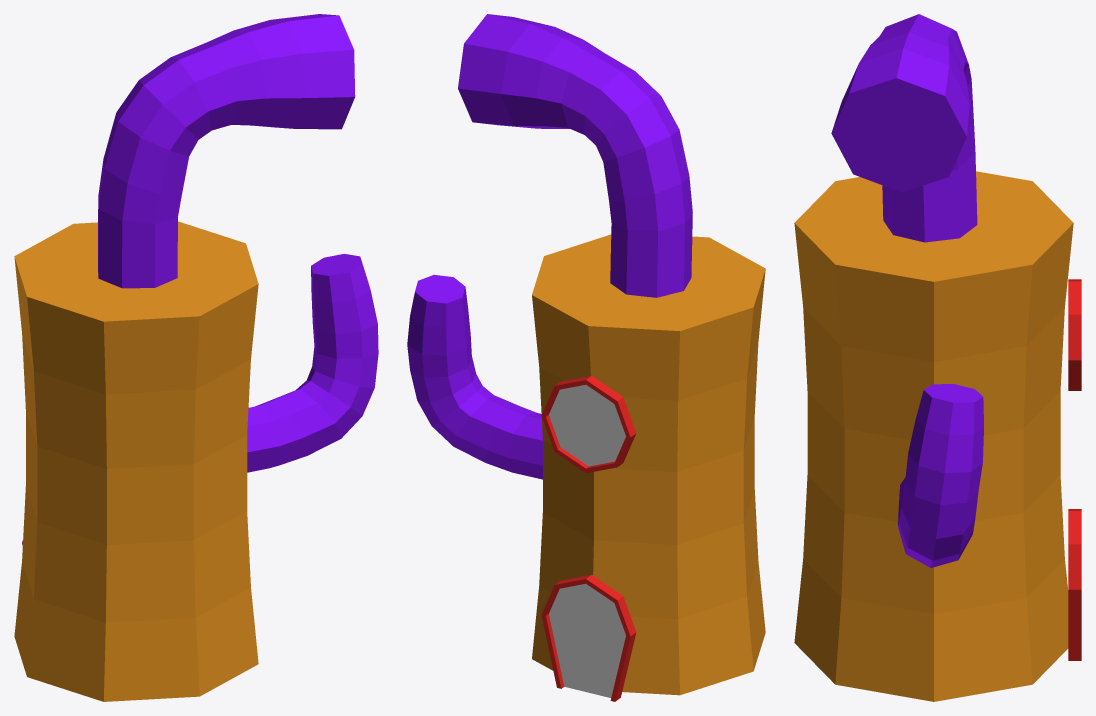
File: SM_House_002.fbx
The picture shows the model from 3 angles, left to right: view 1: azimuth 30°, elevation 25°; view 2: azimuth 150°, elevation 25°; view 3: azimuth 270°, elevation 25°; orthographic projection. The views are drawn at different scales.
Parts seen in each view (by area): view 1: Cylinder.007, Cylinder.008, Cylinder.009; view 2: Cylinder.007, Cylinder.008, Cylinder.009, Cylinder.011, Cylinder.010; view 3: Cylinder.007, Cylinder.008, Cylinder.009, Cylinder.011, Cylinder.010.
Part boxes in pixels (<box>): Cylinder.007: <box>14,221,258,701</box>; Cylinder.008: <box>98,14,355,288</box>; Cylinder.009: <box>247,254,378,472</box>; Cylinder.007: <box>532,234,765,695</box>; Cylinder.008: <box>458,14,692,297</box>; Cylinder.009: <box>407,274,542,479</box>; Cylinder.011: <box>541,575,636,701</box>; Cylinder.010: <box>541,375,636,473</box>; Cylinder.007: <box>794,171,1073,701</box>; Cylinder.008: <box>831,14,977,242</box>; Cylinder.009: <box>898,384,983,567</box>; Cylinder.011: <box>1068,509,1081,660</box>; Cylinder.010: <box>1068,279,1081,390</box>.
Bounding box in the file's own units: 213 × 351 × 136.
